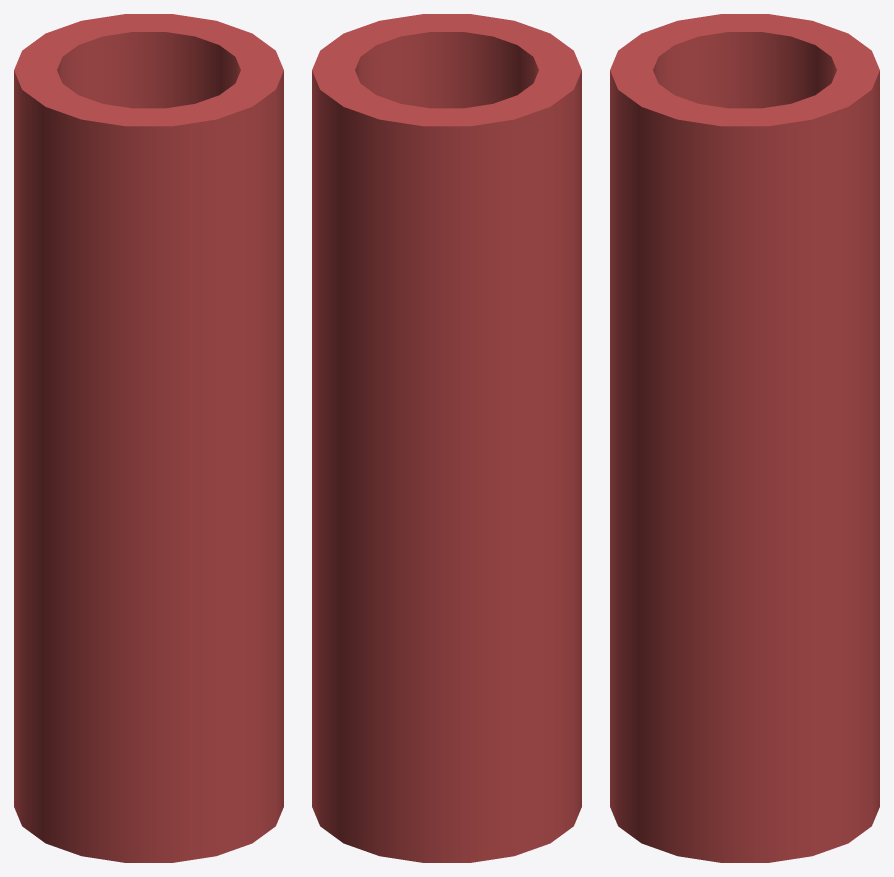
File: 2dWell.FBX
The picture shows the model from 3 angles, left to right: view 1: azimuth 30°, elevation 25°; view 2: azimuth 150°, elevation 25°; view 3: azimuth 270°, elevation 25°; orthographic projection.
Parts seen in each view (by area): view 1: Tube001; view 2: Tube001; view 3: Tube001.
Part boxes in pixels (box(x1,y1,x2,y2)): Tube001: box(14, 14, 283, 862); Tube001: box(312, 14, 581, 862); Tube001: box(610, 14, 879, 862).
Size of the model in its own units: 116 by 353 by 117.
